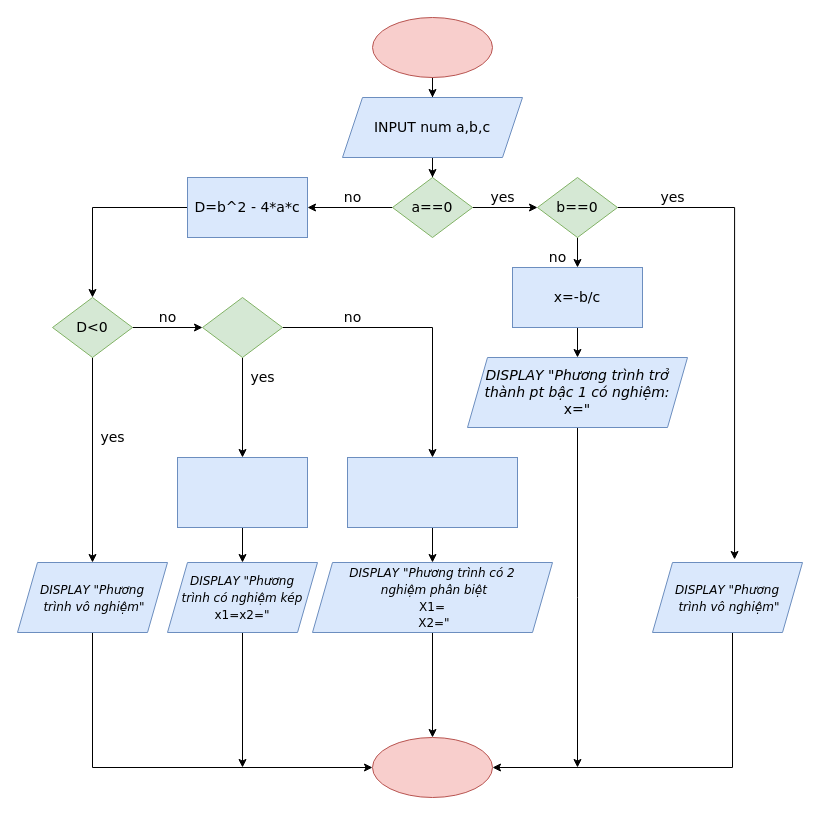
This 820x815 diagram has some shape labels left out. Each missing label, with the centre of its shape:
D==0: the point at 242,327
START: the point at 432,47
STOP: the point at 432,767
x1=(-b+sqrt(D))/(2*a) x2=(-b-sqrt(D))/(2*a): the point at 432,492
x1=x2=-b/(2*a): the point at 242,492
